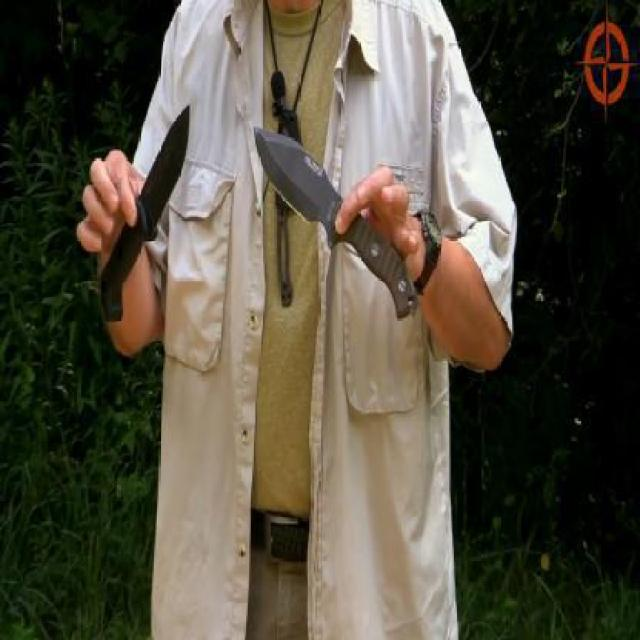knife: (250, 115, 422, 323), (97, 96, 195, 327)
